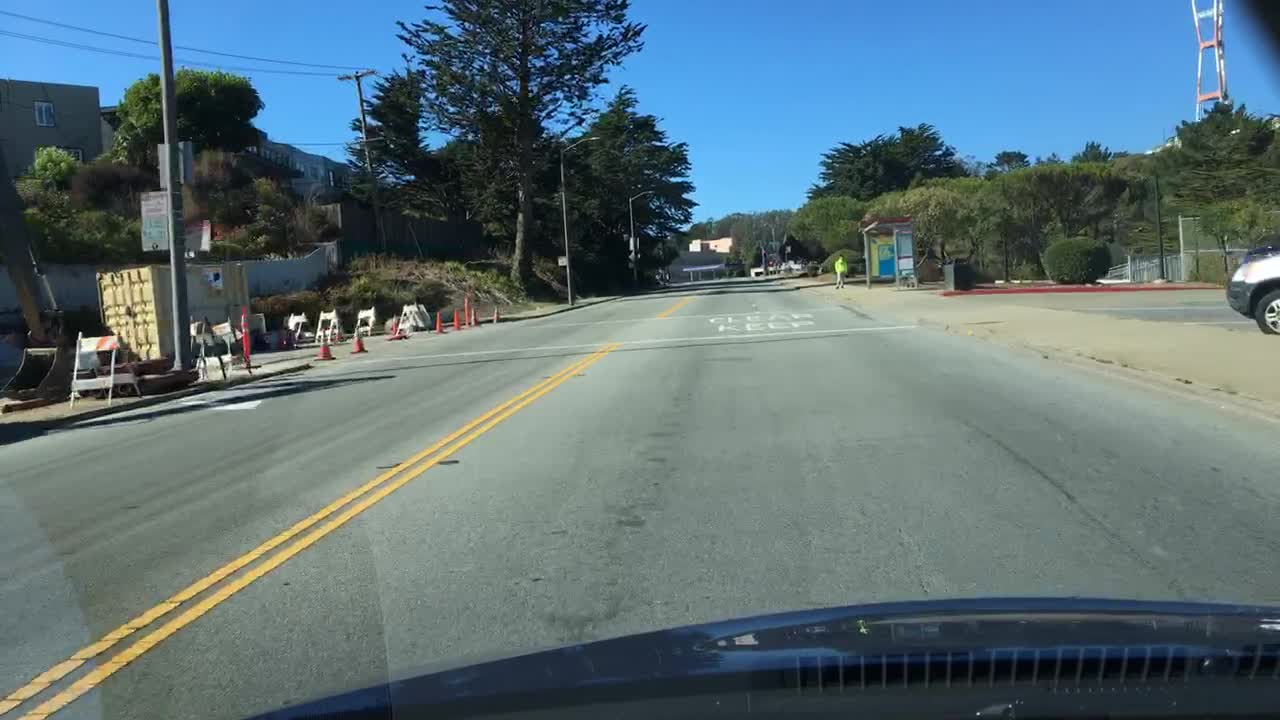car: (1221, 248, 1276, 334)
person: (832, 250, 848, 288)
traffic sign: (136, 188, 168, 255), (151, 141, 191, 177), (190, 215, 213, 251)
